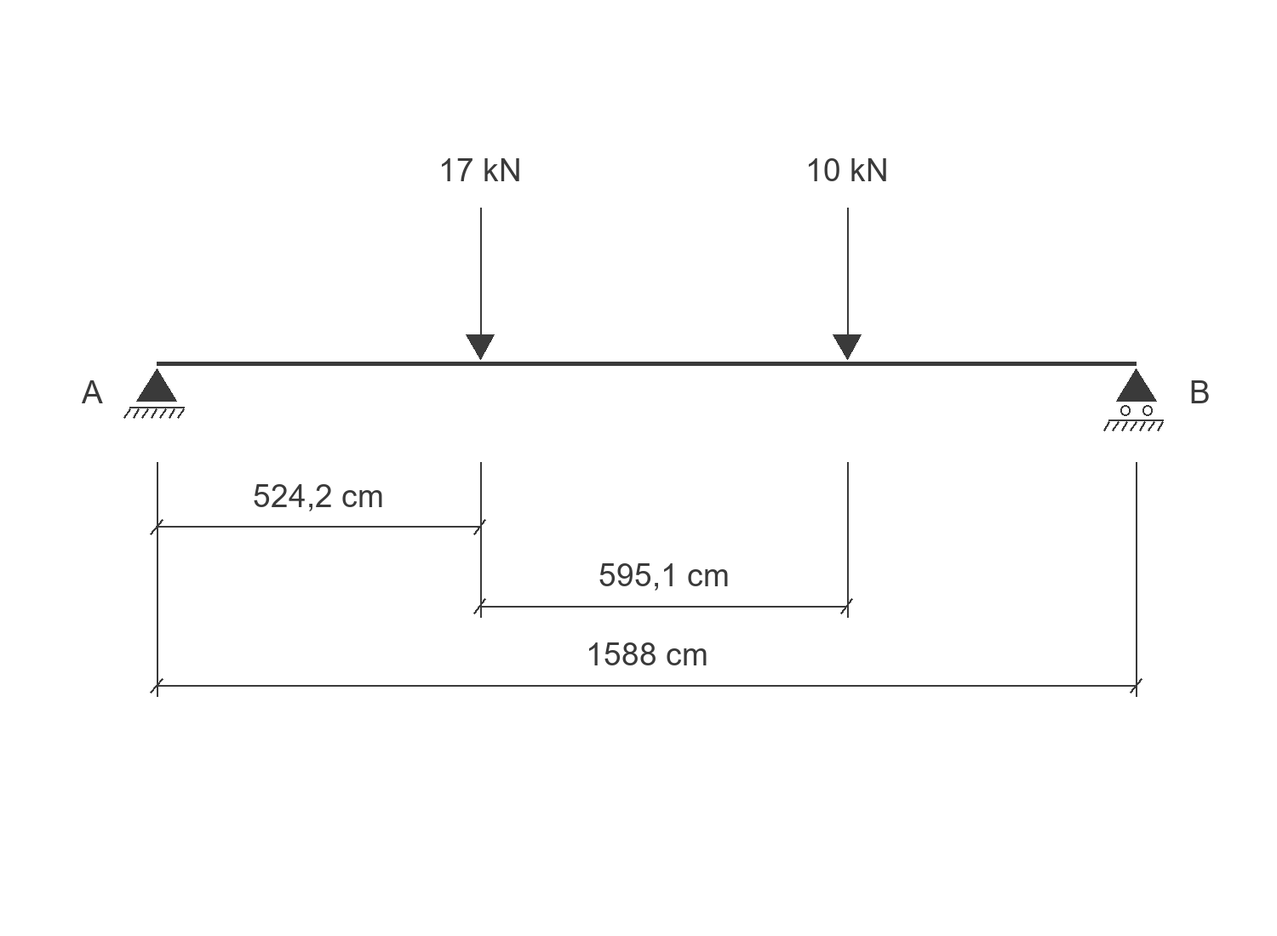pin_support: (123, 368, 185, 419)
point_load: (466, 208, 495, 360), (833, 208, 862, 360)
roller_support: (1103, 368, 1164, 431)
